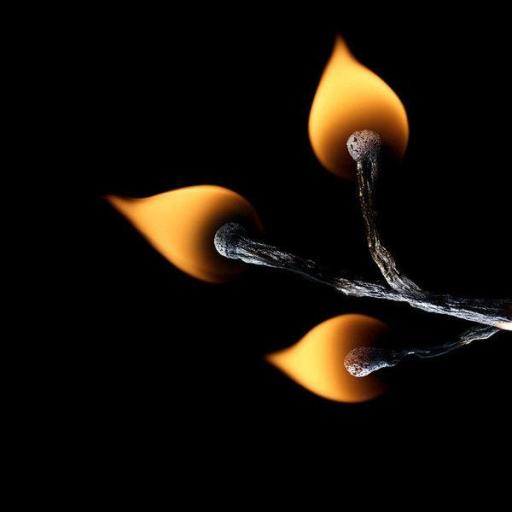fire: (76, 169, 266, 288), (288, 29, 436, 181), (256, 307, 414, 405)
